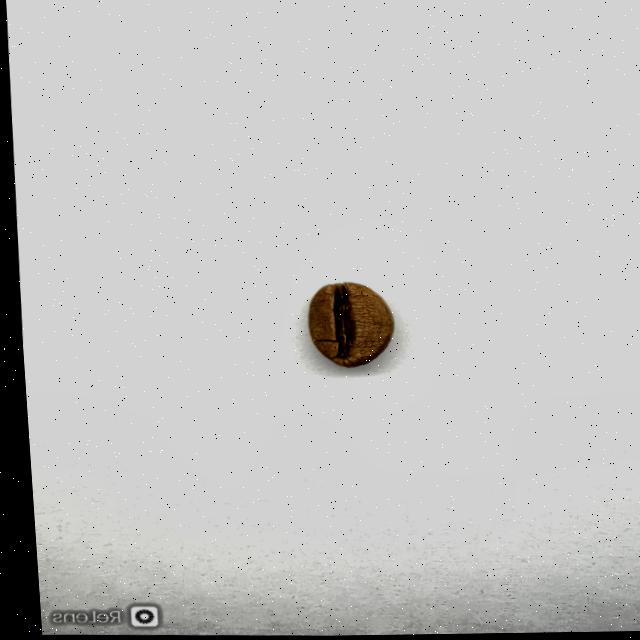Good bean: (301, 281, 392, 369)
